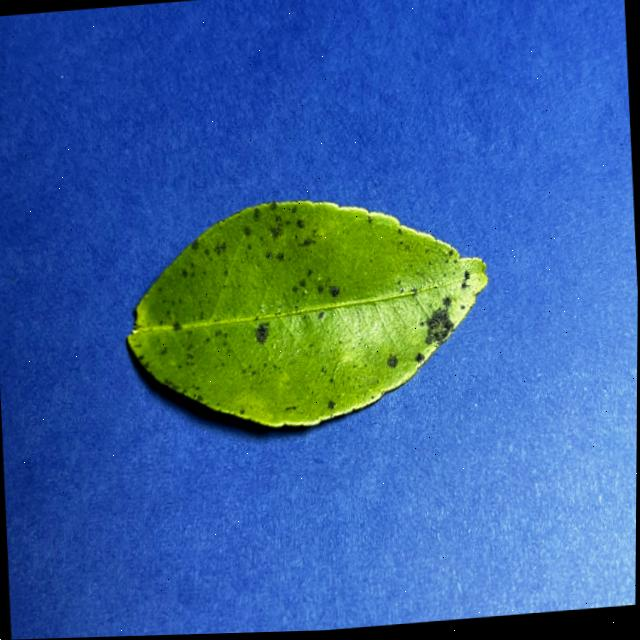sooty_mold: (128, 201, 487, 427)
